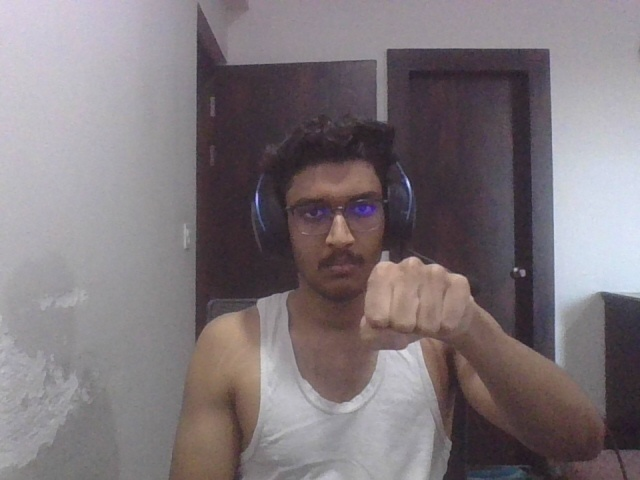Yes: (348, 252, 487, 354)
